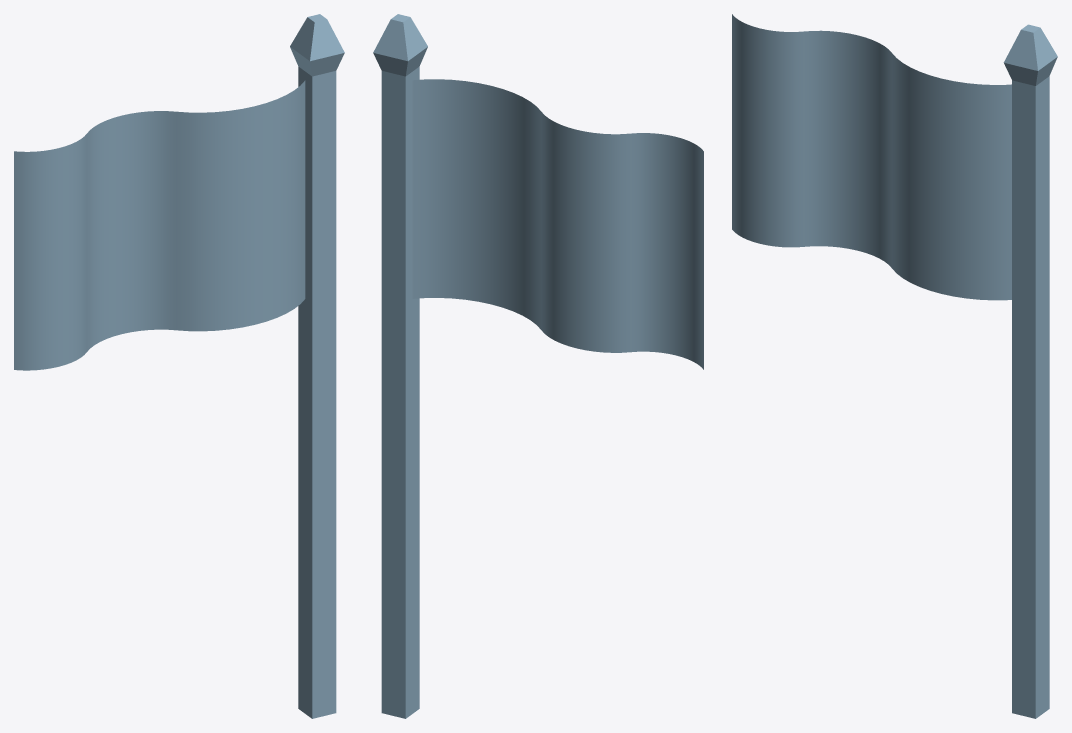
File: flagBlueWide.fbx
3 views of the same model, side by side, from view 1: azimuth 30°, elevation 25°; view 2: azimuth 150°, elevation 25°; view 3: azimuth 330°, elevation 25° (orthographic).
Parts seen in each view (by area): view 1: Group 284, flagBlueWide; view 2: Group 284, flagBlueWide; view 3: Group 284, flagBlueWide.
Part boxes in pixels (x1,y1,x2,y2): Group 284: [14, 80, 305, 370]; flagBlueWide: [290, 14, 344, 718]; Group 284: [412, 79, 703, 369]; flagBlueWide: [373, 14, 427, 718]; Group 284: [732, 14, 1011, 300]; flagBlueWide: [1003, 24, 1057, 718].
Size of the model in its own units: 115 by 238 by 14.96.
